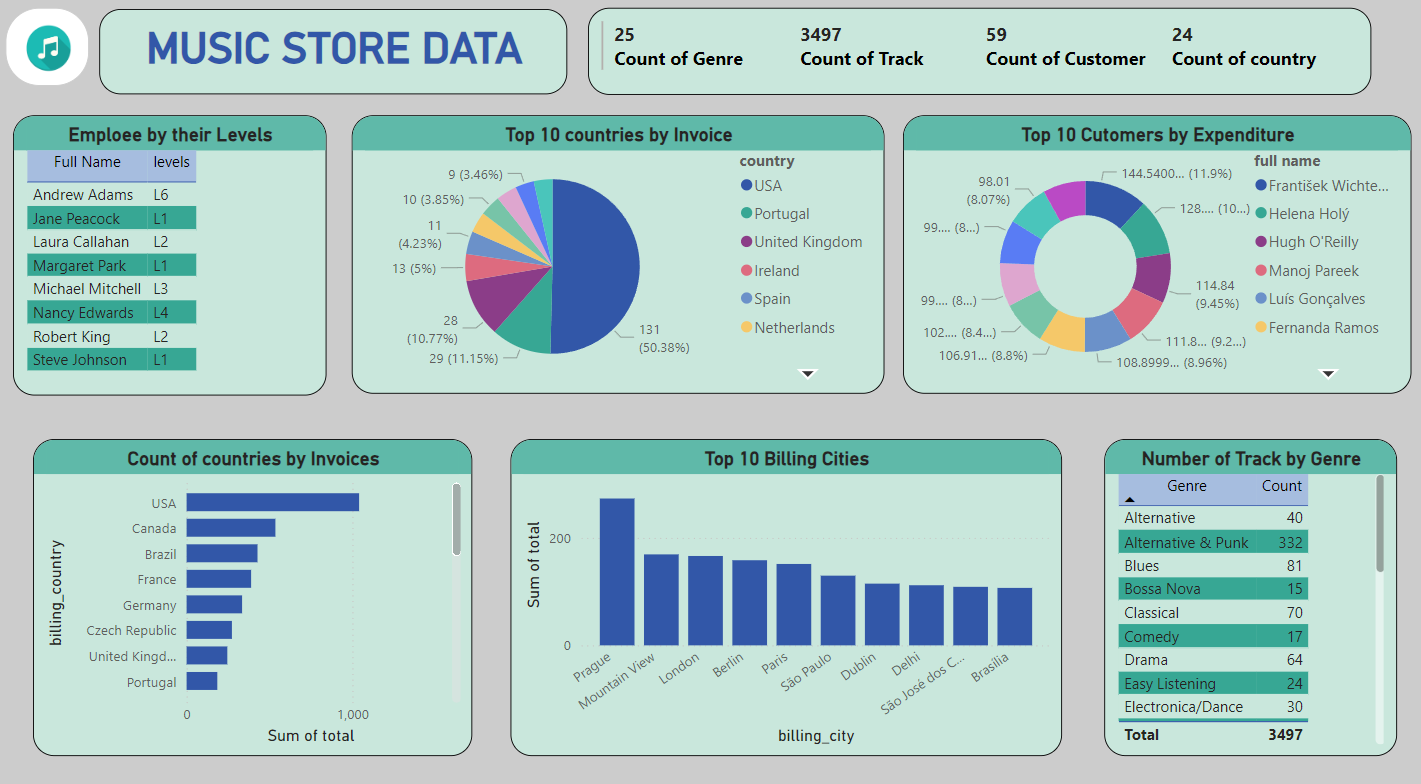

What the dashboard file says about the page in this screenshot:
{"tool":"powerbi","page":{"name":"Page 1","canvas":[1280,720],"ordinal":0},"visuals":[{"type":"tableEx","title":"Emploee by their Levels","fields":{"Values":["musicstoredata employee.Full Name","musicstoredata employee.levels"]},"box":[21.7,112.3,278.9,250],"z":0},{"type":"clusteredBarChart","title":"Count of countries by Invoices","fields":{"Category":["musicstoredata invoice.billing_country"],"Y":["musicstoredata invoice.total"]},"box":[39.8,400.3,391.2,282.6],"z":1000},{"type":"pieChart","title":"Top 10 countries by Invoice","fields":{"Category":["musicstoredata customer.country"],"Y":["musicstoredata invoice.total - Copy"]},"box":[324.2,112.3,474.6,248.2],"z":2000},{"type":"clusteredColumnChart","title":"Top 10 Billing Cities","fields":{"Category":["musicstoredata invoice.billing_city"],"Y":["musicstoredata invoice.total"]},"box":[465.5,400.3,490.9,282.6],"z":3000},{"type":"donutChart","title":"Top 10 Cutomers by Expenditure","fields":{"Category":["musicstoredata customer.full name"],"Y":["musicstoredata invoice.total"]},"box":[815.1,112.3,452.8,248.2],"z":4000},{"type":"tableEx","title":"Number of Track by Genre","fields":{"Values":["musicstoredata genre.name","musicstoredata track.name"]},"box":[994.4,400.3,260.8,282.6],"z":5000},{"type":"multiRowCard","fields":{"Values":["musicstoredata track.genre_id","musicstoredata track.track_id","musicstoredata customer.full name","musicstoredata customer.country"]},"box":[534.3,16.3,697.4,77.9],"z":6000},{"type":"image","box":[15.4,16.6,74.7,69.9],"z":6500},{"type":"textbox","box":[99.6,17.8,417.2,75.9],"z":7000}]}

Visuals, with their boxes in screenshot pixels (x1, y1, x2, y2), scaled from the page's 1280x720 canvas onto the 1421x784 screenshot:
"Emploee by their Levels" tableEx: (24, 122, 334, 395)
"Count of countries by Invoices" clusteredBarChart: (44, 436, 478, 744)
"Top 10 countries by Invoice" pieChart: (360, 122, 887, 393)
"Top 10 Billing Cities" clusteredColumnChart: (517, 436, 1062, 744)
"Top 10 Cutomers by Expenditure" donutChart: (905, 122, 1408, 393)
"Number of Track by Genre" tableEx: (1104, 436, 1393, 744)
multiRowCard - musicstoredata track.genre_id x musicstoredata track.track_id: (593, 18, 1367, 103)
image: (17, 18, 100, 94)
textbox: (111, 19, 574, 102)
